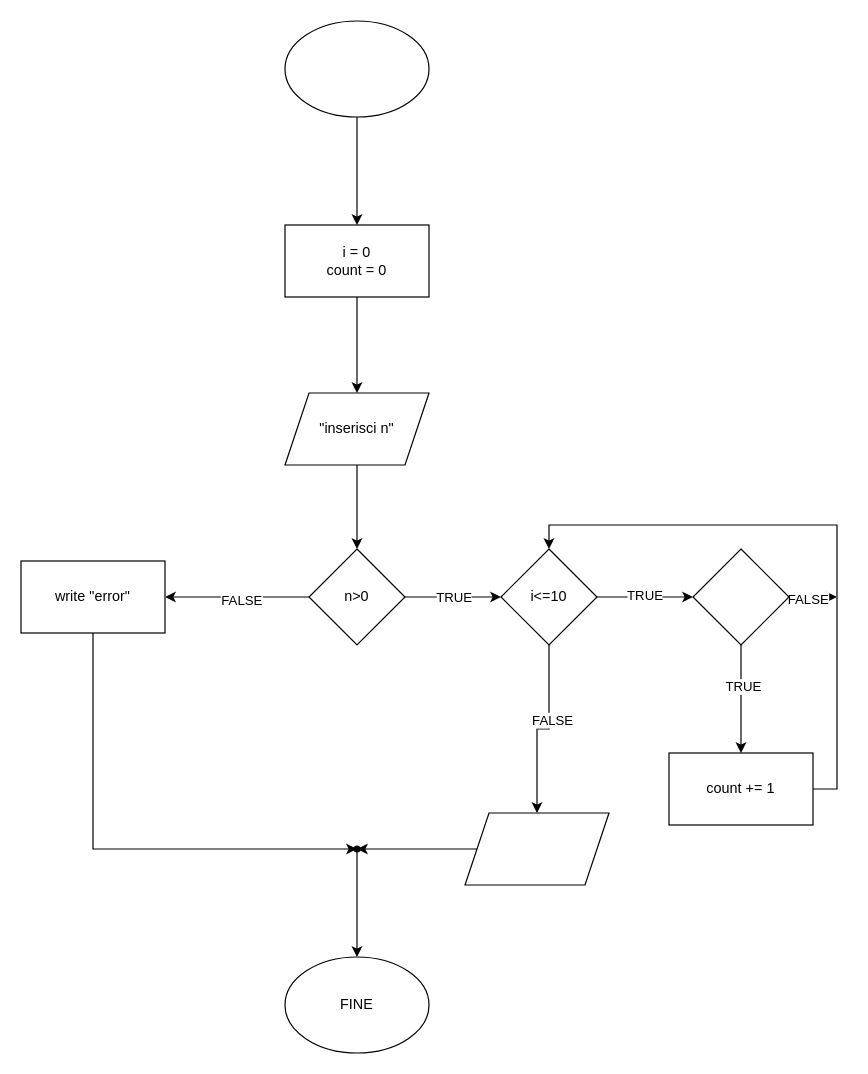
The diagram is 868 pixels wide and 1074 high, and some of its shapes have lost their labels. Each missing label, with the box of its shape:
INIZIO: (284, 20, 429, 117)
read x: (464, 812, 609, 885)
x%n==0: (692, 548, 789, 645)
